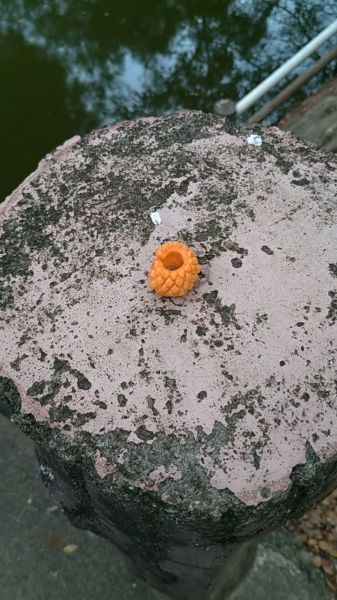eggs: (146, 238, 201, 303)
